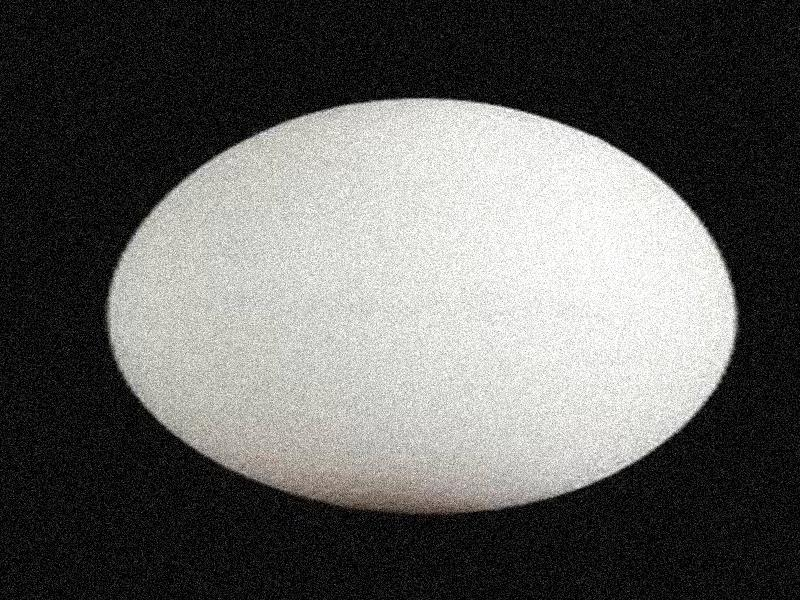Eggs: (109, 100, 739, 515)
